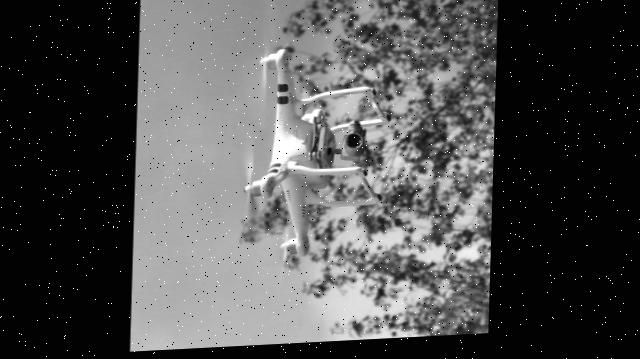drone: (241, 39, 390, 266)
